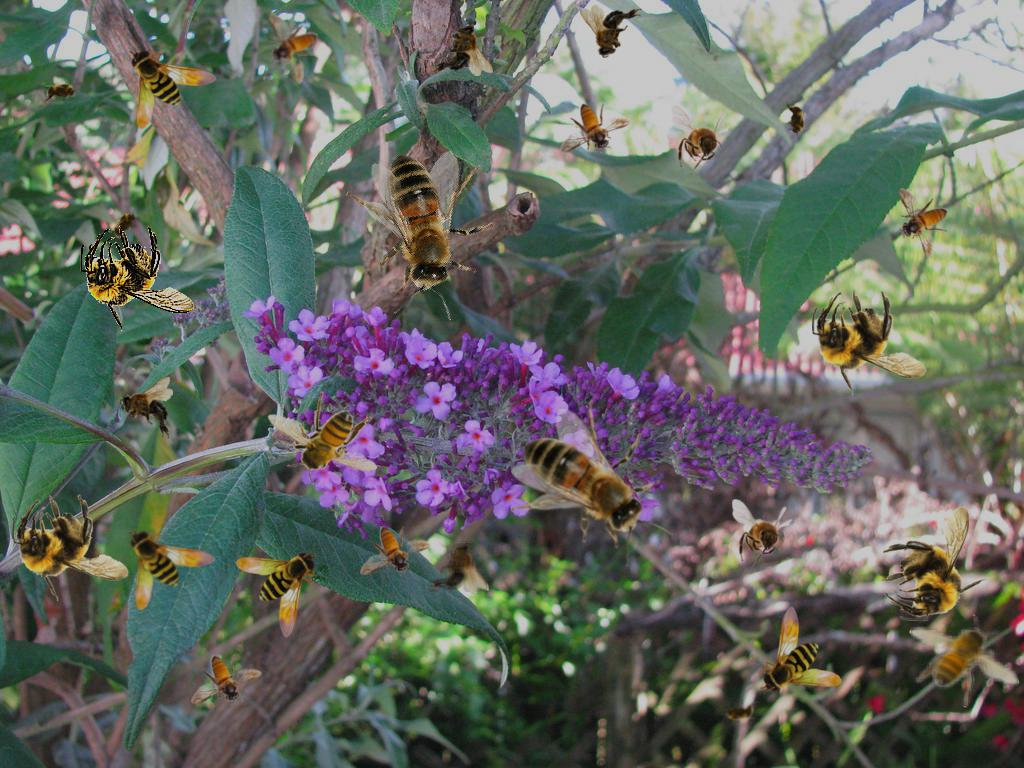Bee: (308, 111, 541, 345), (511, 400, 673, 567), (10, 491, 131, 604), (811, 288, 928, 397), (80, 225, 195, 332), (881, 506, 988, 621), (909, 614, 1020, 708), (267, 391, 378, 485), (128, 528, 216, 610), (236, 550, 318, 638), (129, 47, 217, 129), (760, 606, 842, 694), (671, 105, 732, 175), (732, 499, 793, 569), (268, 13, 318, 84), (898, 188, 948, 259), (360, 526, 431, 576), (191, 655, 262, 705), (560, 103, 631, 153), (580, 5, 642, 58), (427, 541, 489, 594), (120, 377, 173, 439), (431, 23, 493, 76), (103, 202, 147, 248), (719, 701, 759, 723), (785, 100, 807, 140), (41, 81, 81, 103)
